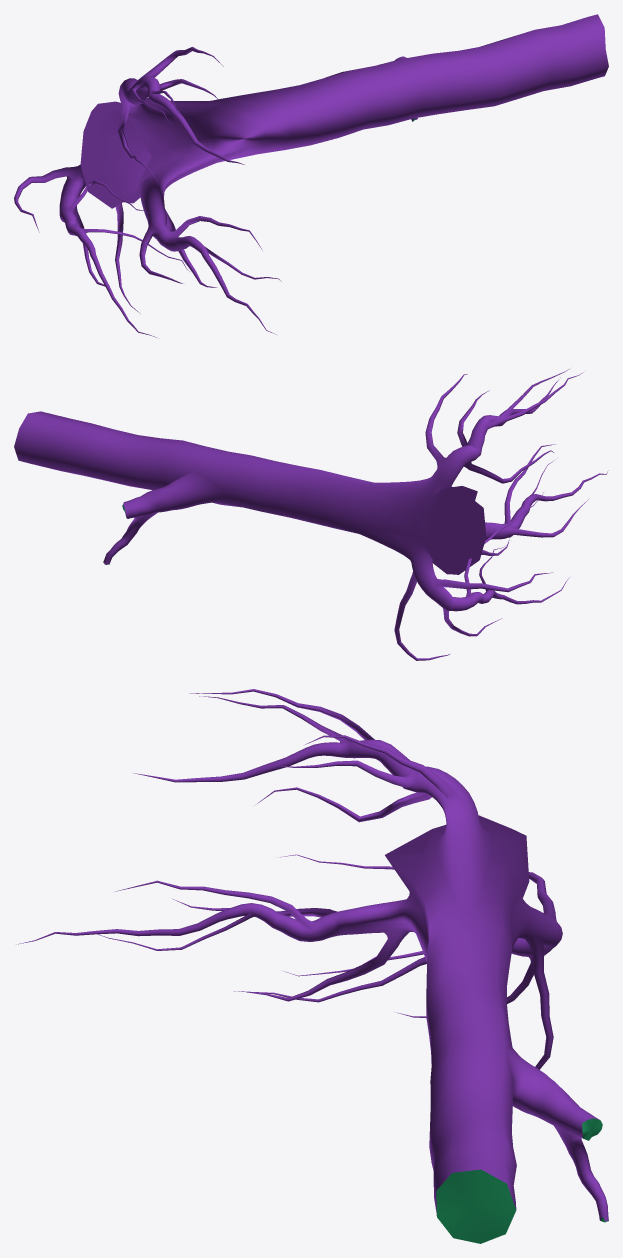
Rendered from tronc_sol.fbx.
3 views of the same model, one above another, from view 1: azimuth 30°, elevation 25°; view 2: azimuth 150°, elevation 25°; view 3: azimuth 270°, elevation 25° (orthographic). The views are drawn at different scales.
Visible parts, largest first — view 1: tronc_sol; view 2: tronc_sol; view 3: tronc_sol.
Part boxes in pixels (x1,y1,x2,y2): tronc_sol: [14, 14, 608, 337]; tronc_sol: [14, 369, 608, 660]; tronc_sol: [16, 689, 608, 1243].
Bounding box in the file's own units: 213 × 98.86 × 141.
